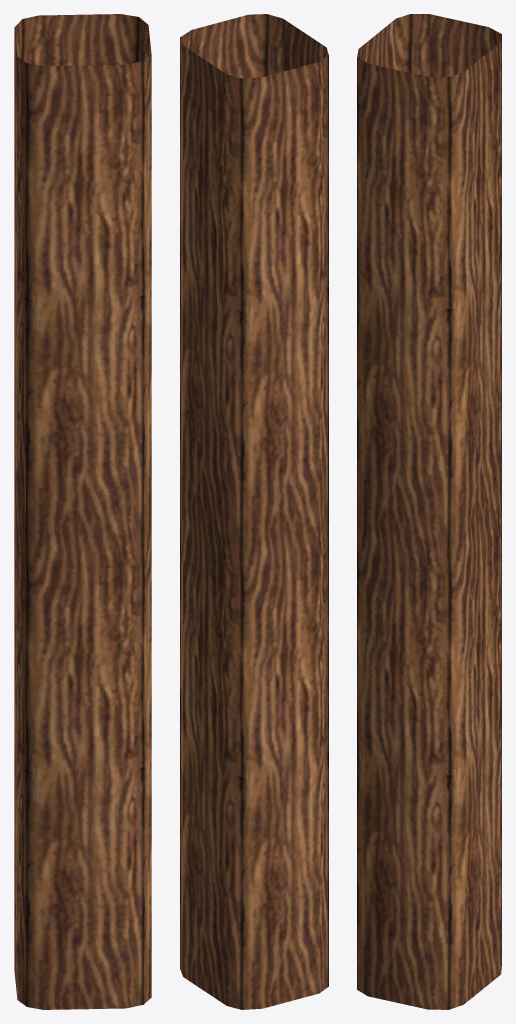
Rendered from OVERHILL_A_01_LINE159.fbx.
3 renders of one model, left to right at view 1: azimuth 30°, elevation 25°; view 2: azimuth 150°, elevation 25°; view 3: azimuth 270°, elevation 25°, orthographic.
Parts seen in each view (by area): view 1: OVERHILL_A_01_LINE159; view 2: OVERHILL_A_01_LINE159; view 3: OVERHILL_A_01_LINE159.
Boxes of the visible parts, left/top/right/bottom form: OVERHILL_A_01_LINE159: left=14, top=14, right=151, bottom=1009; OVERHILL_A_01_LINE159: left=180, top=14, right=328, bottom=1009; OVERHILL_A_01_LINE159: left=357, top=14, right=501, bottom=1009.
Bounding box in the file's own units: 5927 × 40697 × 5721.
Materials: 1 (1 with a texture image).
